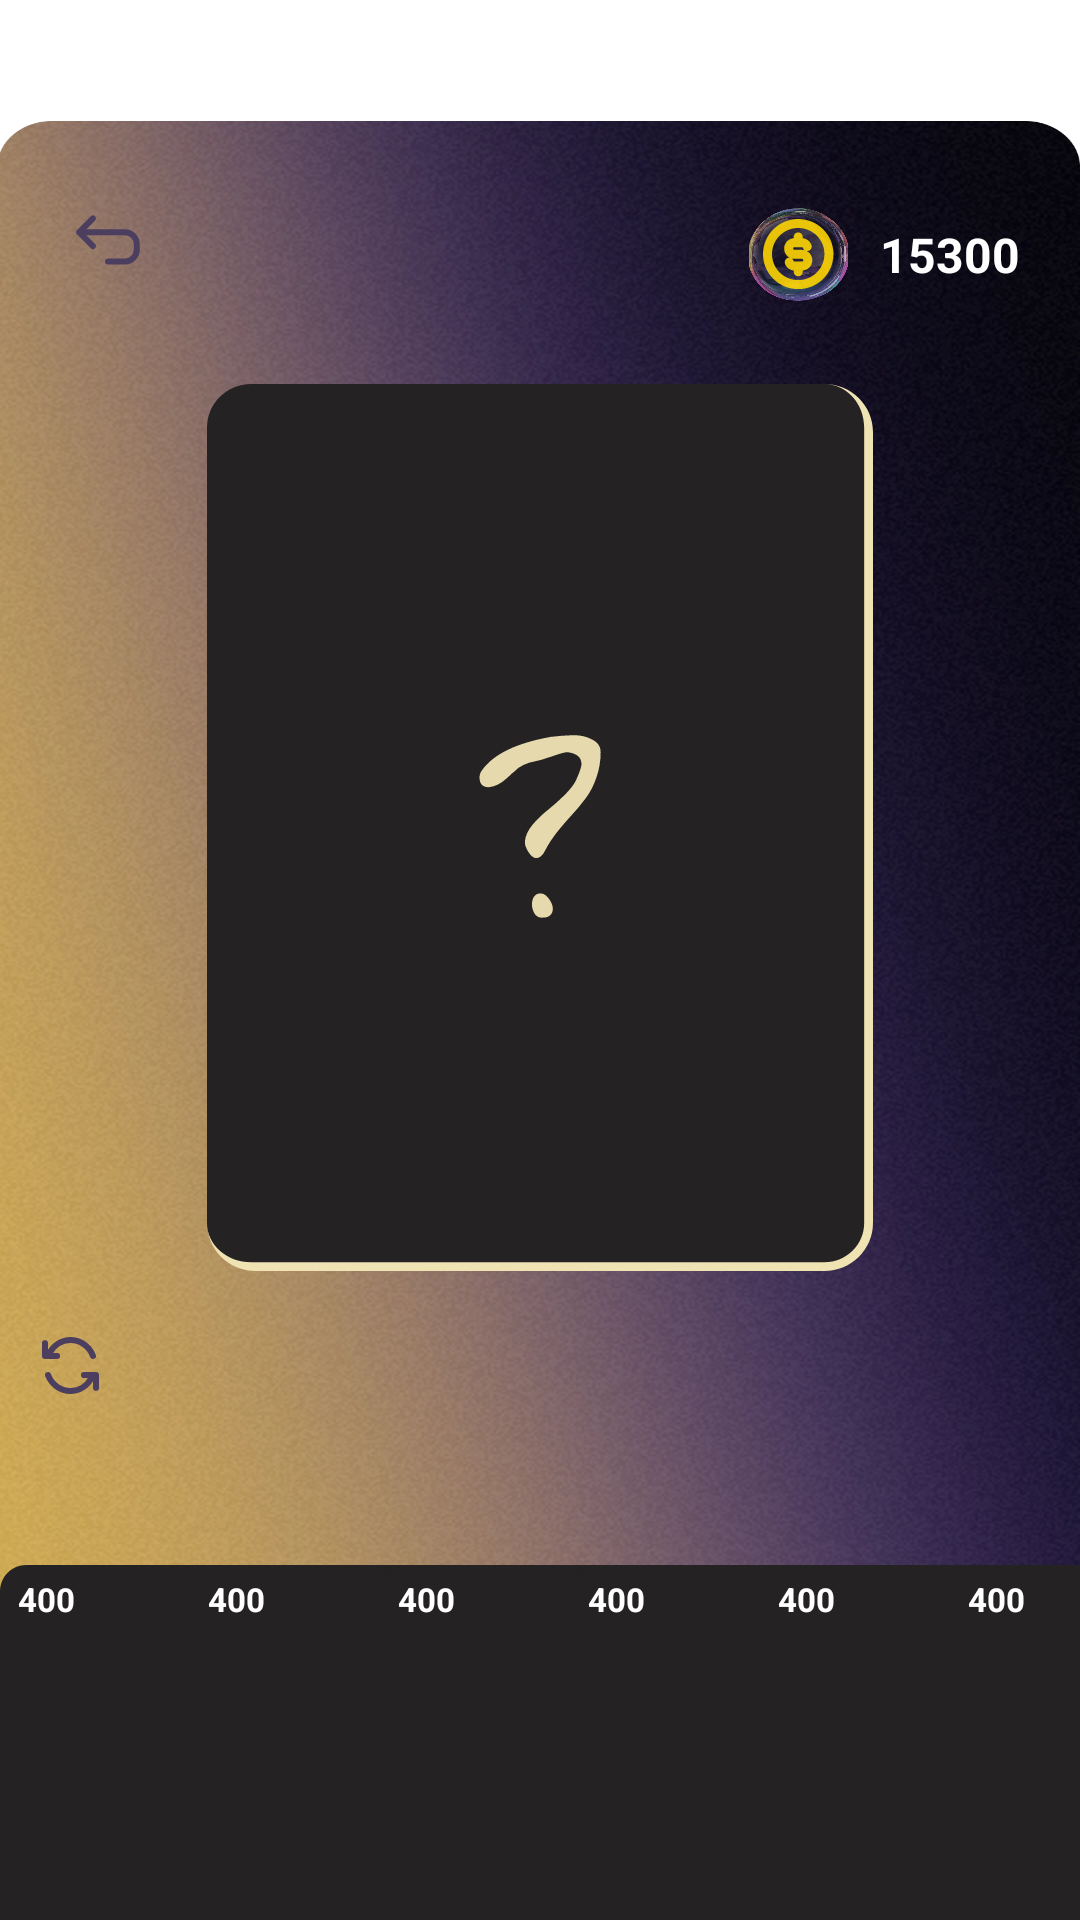

Icon click points for this 1080*1920 phone screenshot, format (x,y):
back: (116,228)
refresh: (70,1365)
